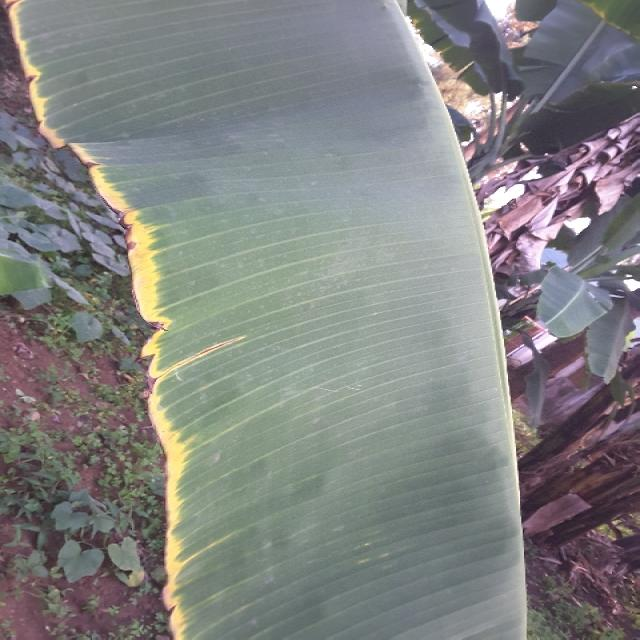Cordana: (0, 0, 255, 639)
